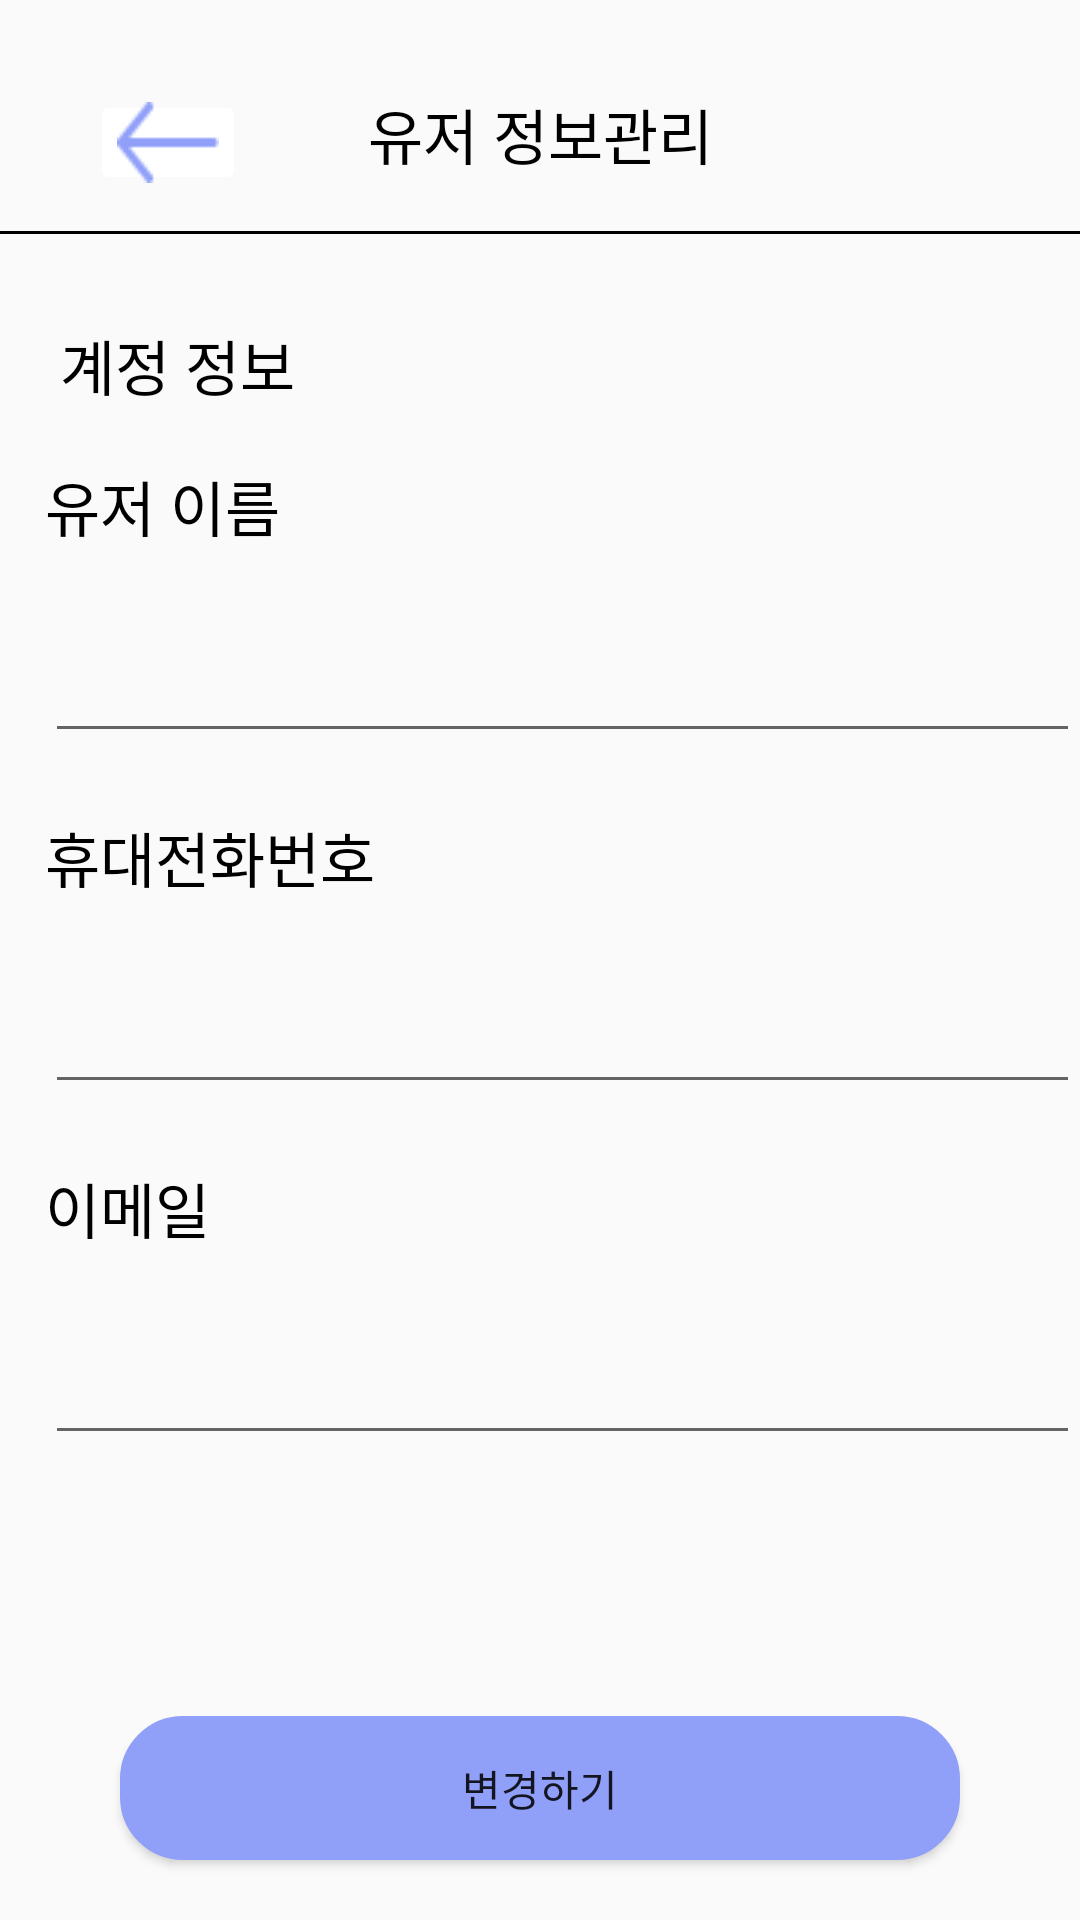

Where icons sit on this 1080 × 1920 app screen, as detection(x1, y1, x2, y2):
arrow left: detection(117, 102, 219, 183)
